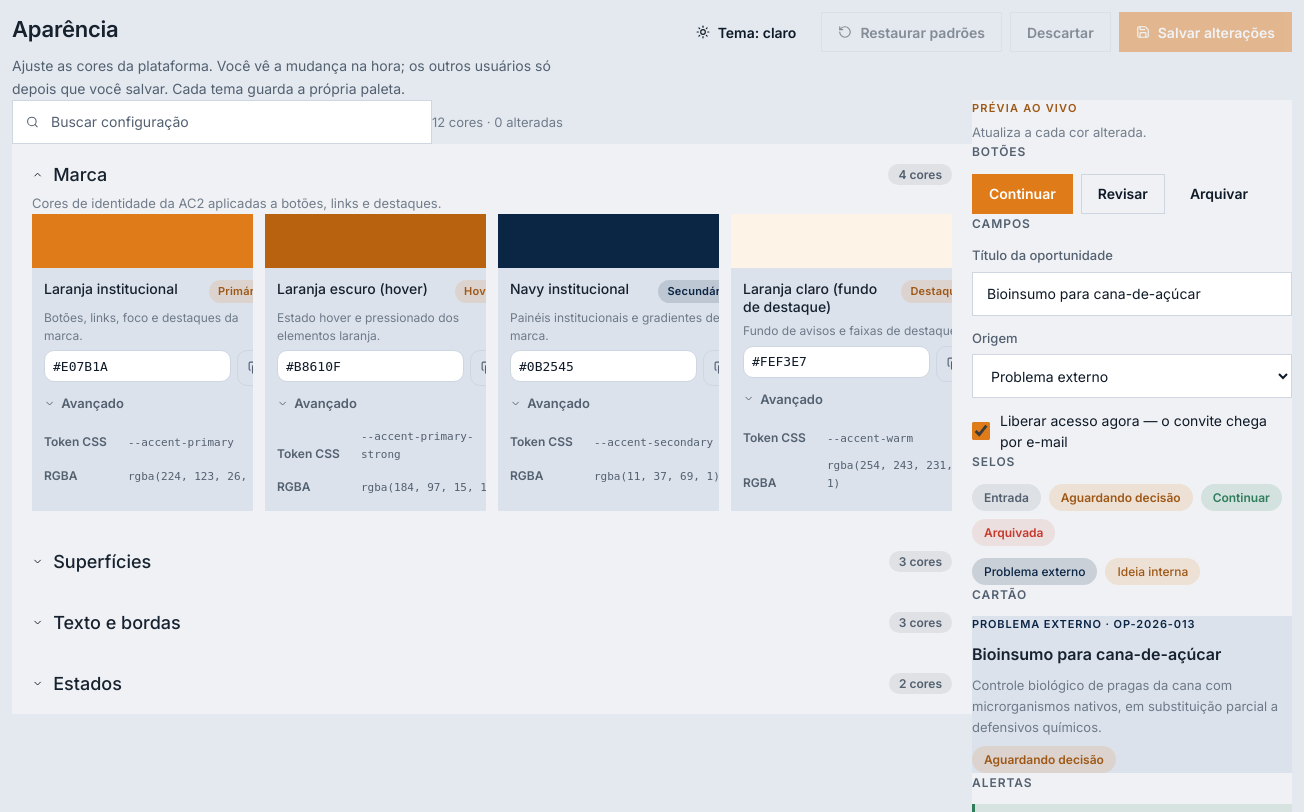
Test: AppearanceSection › recolhe e reabre um grupo
Click the button "Marca 4 cores".
click(80, 174)  # box [32, 164, 952, 185]
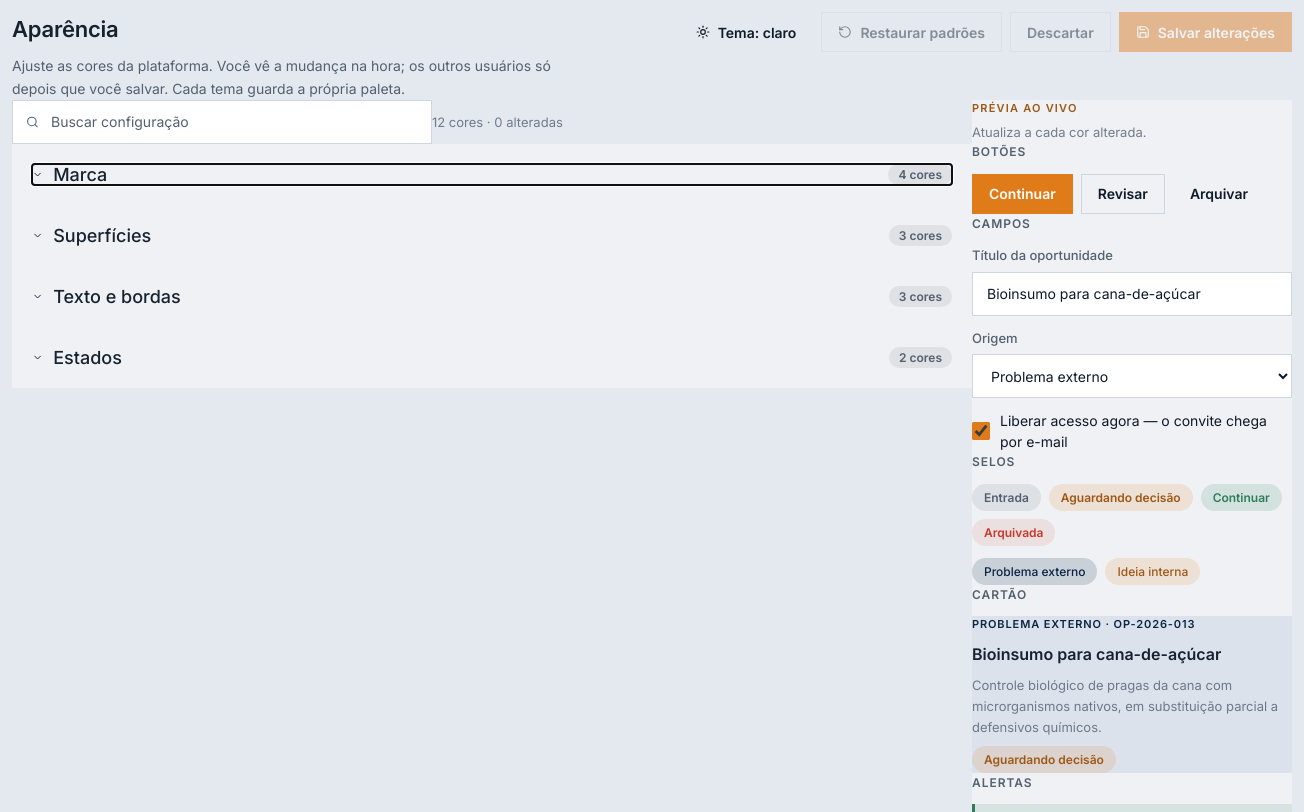
Result: the button "Marca 4 cores" is collapsed
Result: the heading "Laranja institucional" is gone
Click the button "Marca 4 cores".
click(80, 174)  # box [32, 164, 952, 185]
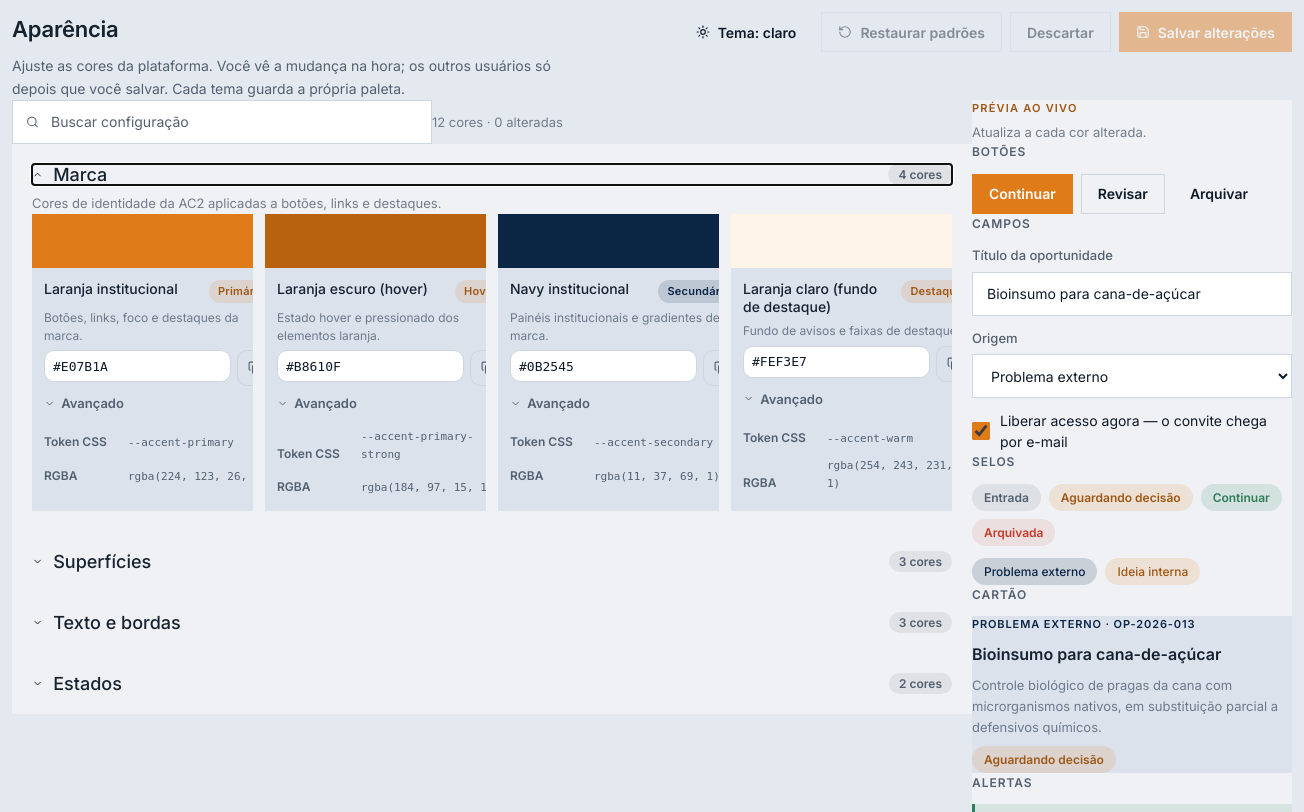
Result: the button "Marca 4 cores" is expanded at [32, 164, 952, 185]
Result: the heading "Laranja institucional" is shown at [44, 280, 178, 298]
